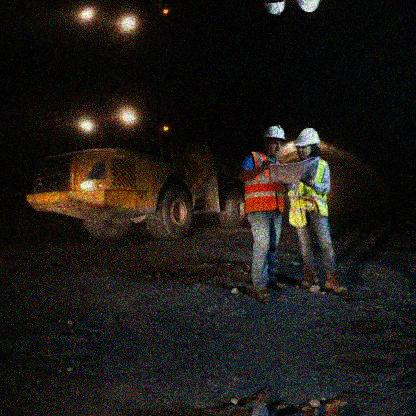helmet: (262, 121, 290, 151), (297, 127, 321, 157)
